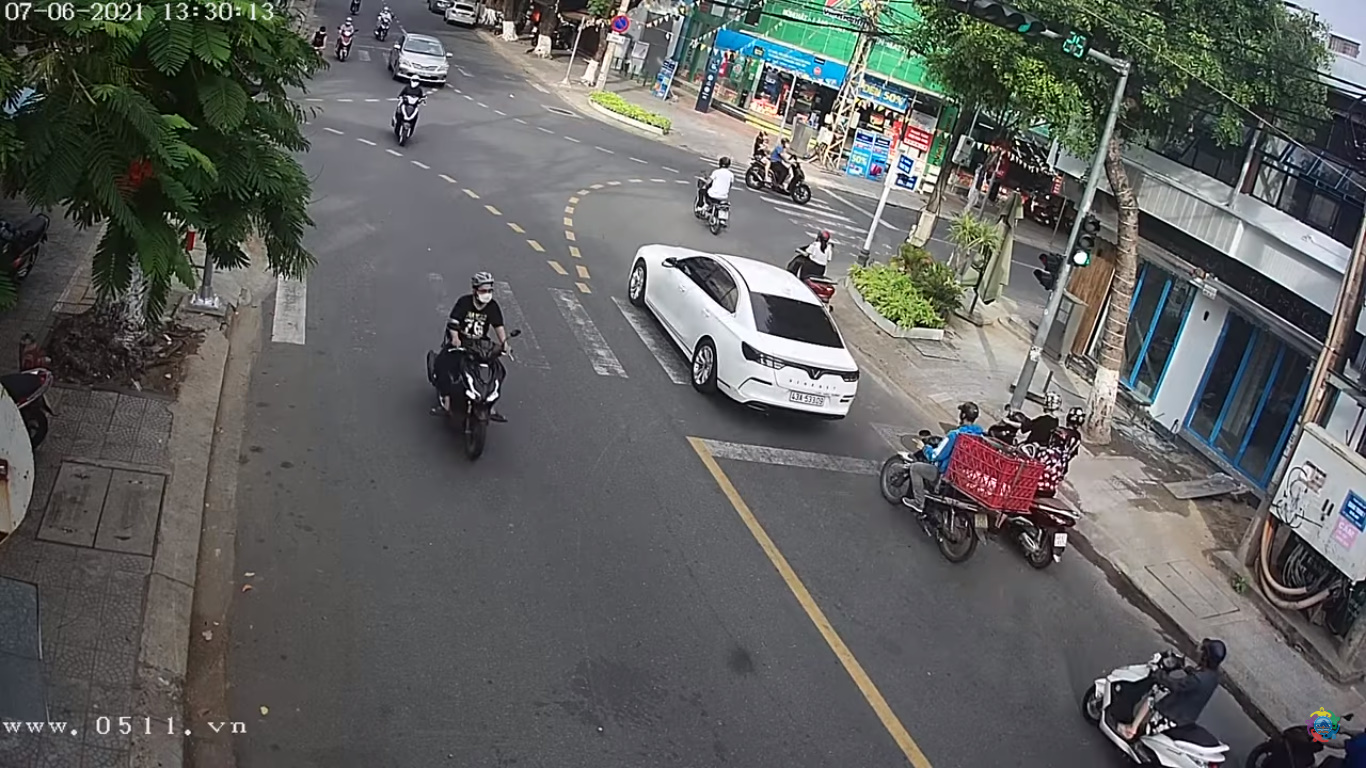car: (388, 34, 451, 84)
motorbike: (424, 269, 527, 458)
